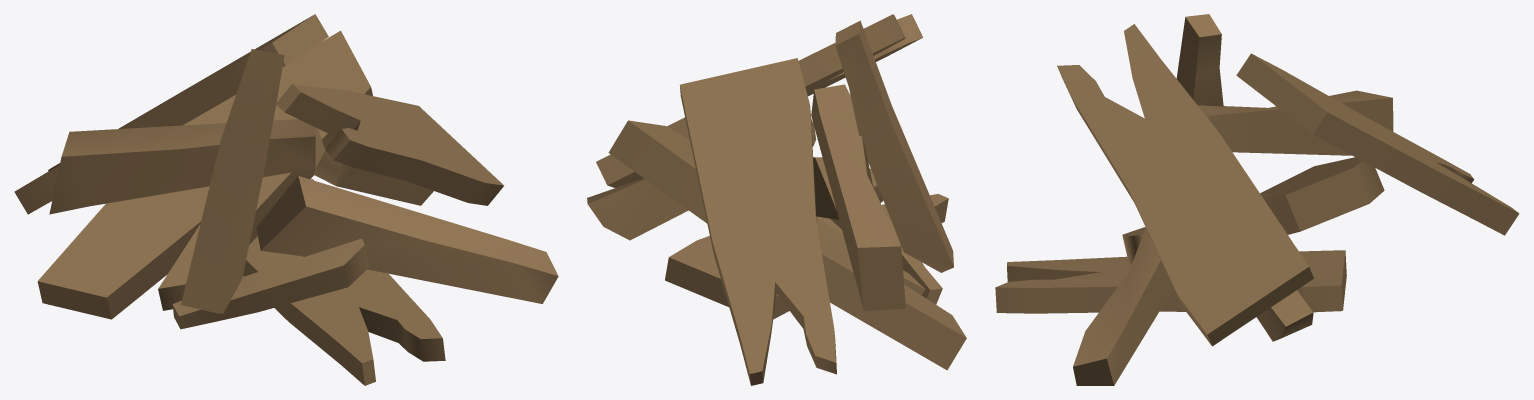
Rendered from kucha_middle_Lv0.fbx.
The picture shows the model from 3 angles, left to right: view 1: azimuth 30°, elevation 25°; view 2: azimuth 150°, elevation 25°; view 3: azimuth 270°, elevation 25°; orthographic projection.
Visible parts, largest first — view 1: doska_2, doska_4, doska_11, doska_8, doska_13, doska_3, doska_5, doska_17, doska_6; view 2: doska_17, doska_2, doska_11, doska_13, doska_8, doska_6, doska_3, doska_5, doska_4; view 3: doska_8, doska_17, doska_3, doska_4, doska_11, doska_2, doska_13, doska_6, doska_5.
Boxes of the visible parts, x1=… form: doska_2: x1=37, y1=30, x2=372, y2=319; doska_4: x1=256, y1=176, x2=558, y2=303; doska_11: x1=49, y1=119, x2=324, y2=214; doska_8: x1=276, y1=84, x2=504, y2=205; doska_13: x1=181, y1=49, x2=284, y2=313; doska_3: x1=243, y1=179, x2=445, y2=385; doska_5: x1=172, y1=238, x2=369, y2=329; doska_17: x1=14, y1=14, x2=328, y2=214; doska_6: x1=313, y1=148, x2=433, y2=205; doska_17: x1=680, y1=58, x2=836, y2=385; doska_2: x1=608, y1=120, x2=966, y2=370; doska_11: x1=811, y1=84, x2=905, y2=310; doska_13: x1=835, y1=20, x2=953, y2=272; doska_8: x1=596, y1=14, x2=922, y2=187; doska_6: x1=587, y1=119, x2=816, y2=240; doska_3: x1=665, y1=168, x2=948, y2=319; doska_5: x1=830, y1=218, x2=942, y2=304; doska_4: x1=813, y1=157, x2=839, y2=219; doska_8: x1=1057, y1=24, x2=1313, y2=346; doska_17: x1=1236, y1=53, x2=1519, y2=235; doska_3: x1=995, y1=250, x2=1346, y2=313; doska_4: x1=1073, y1=227, x2=1173, y2=385; doska_11: x1=1198, y1=90, x2=1393, y2=155; doska_2: x1=1260, y1=157, x2=1384, y2=234; doska_13: x1=1176, y1=14, x2=1223, y2=106; doska_6: x1=1256, y1=290, x2=1313, y2=341; doska_5: x1=1122, y1=227, x2=1145, y2=265.
Size of the model in its own units: 64.15 by 40.1 by 70.31.
